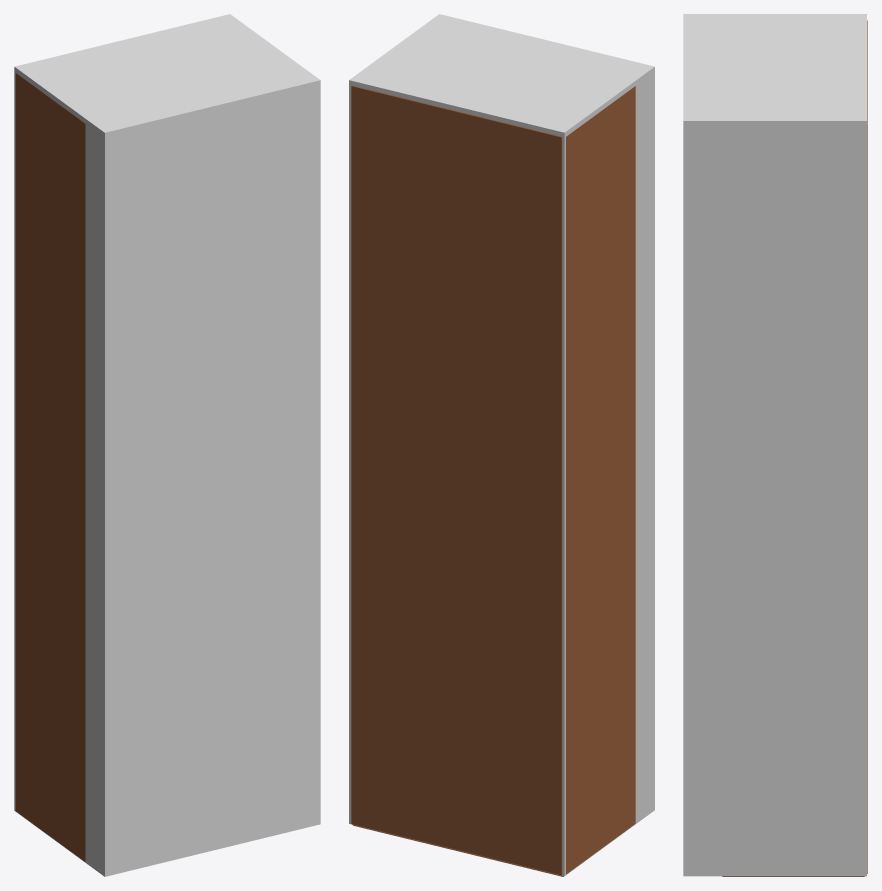
The model's file is shelf-a.glb.
The picture shows the model from 3 angles, left to right: view 1: azimuth 30°, elevation 25°; view 2: azimuth 150°, elevation 25°; view 3: azimuth 270°, elevation 25°; orthographic projection.
Visible parts, largest first — view 1: Shelf A_col, Shelf A; view 2: Shelf A, Shelf A_col; view 3: Shelf A_col, Shelf A.
Part boxes in pixels (<box>): Shelf A_col: <box>14,14,320,876</box>; Shelf A: <box>15,73,85,861</box>; Shelf A: <box>351,85,635,876</box>; Shelf A_col: <box>349,14,654,876</box>; Shelf A_col: <box>683,14,866,876</box>; Shelf A: <box>722,20,867,876</box>.
Size of the model in its own units: 3.26 by 10.79 by 2.38.
